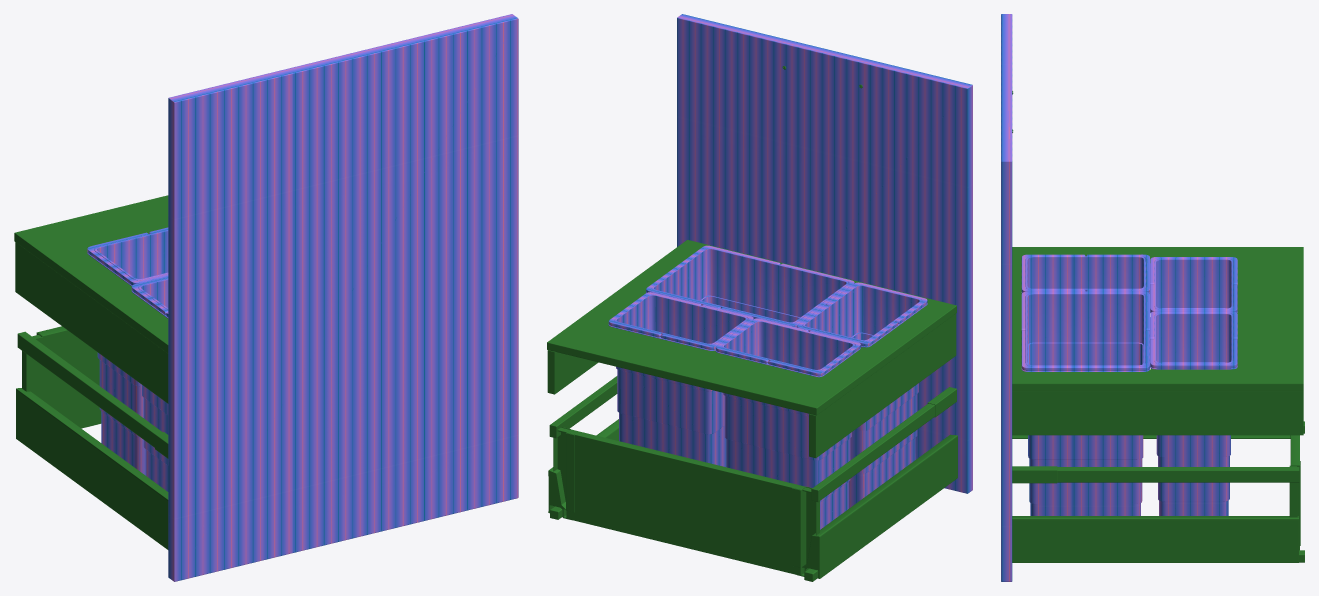
File: SM_Kitchen_08_Sink_Drawer_01.fbx
3 renders of one model, left to right at view 1: azimuth 30°, elevation 25°; view 2: azimuth 150°, elevation 25°; view 3: azimuth 270°, elevation 25°, orthographic. The views are drawn at different scales.
Visible parts, largest first — view 1: SM_Kitchen_08_Sink_Drawer_01; view 2: SM_Kitchen_08_Sink_Drawer_01; view 3: SM_Kitchen_08_Sink_Drawer_01.
Part boxes in pixels (bbox=[...]): SM_Kitchen_08_Sink_Drawer_01: bbox=[14, 14, 518, 581]; SM_Kitchen_08_Sink_Drawer_01: bbox=[547, 14, 972, 581]; SM_Kitchen_08_Sink_Drawer_01: bbox=[1001, 14, 1304, 581].
Bounding box in the file's own units: 59.69 × 79.49 × 51.99.
3 materials, 2 textured.
